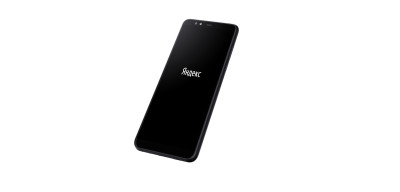phone: (131, 16, 240, 165)
